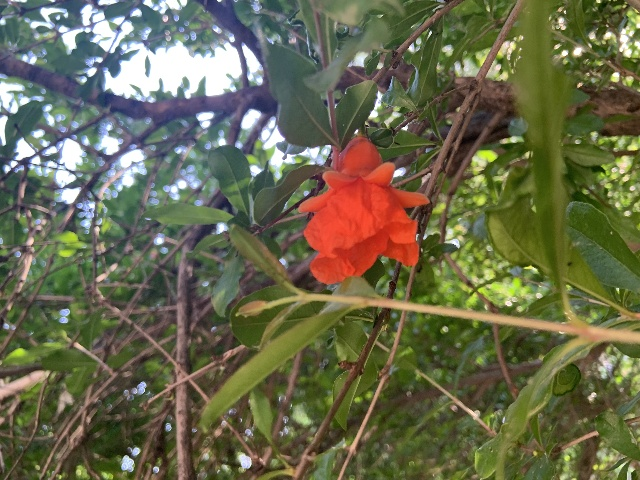flower: (296, 135, 430, 284)
